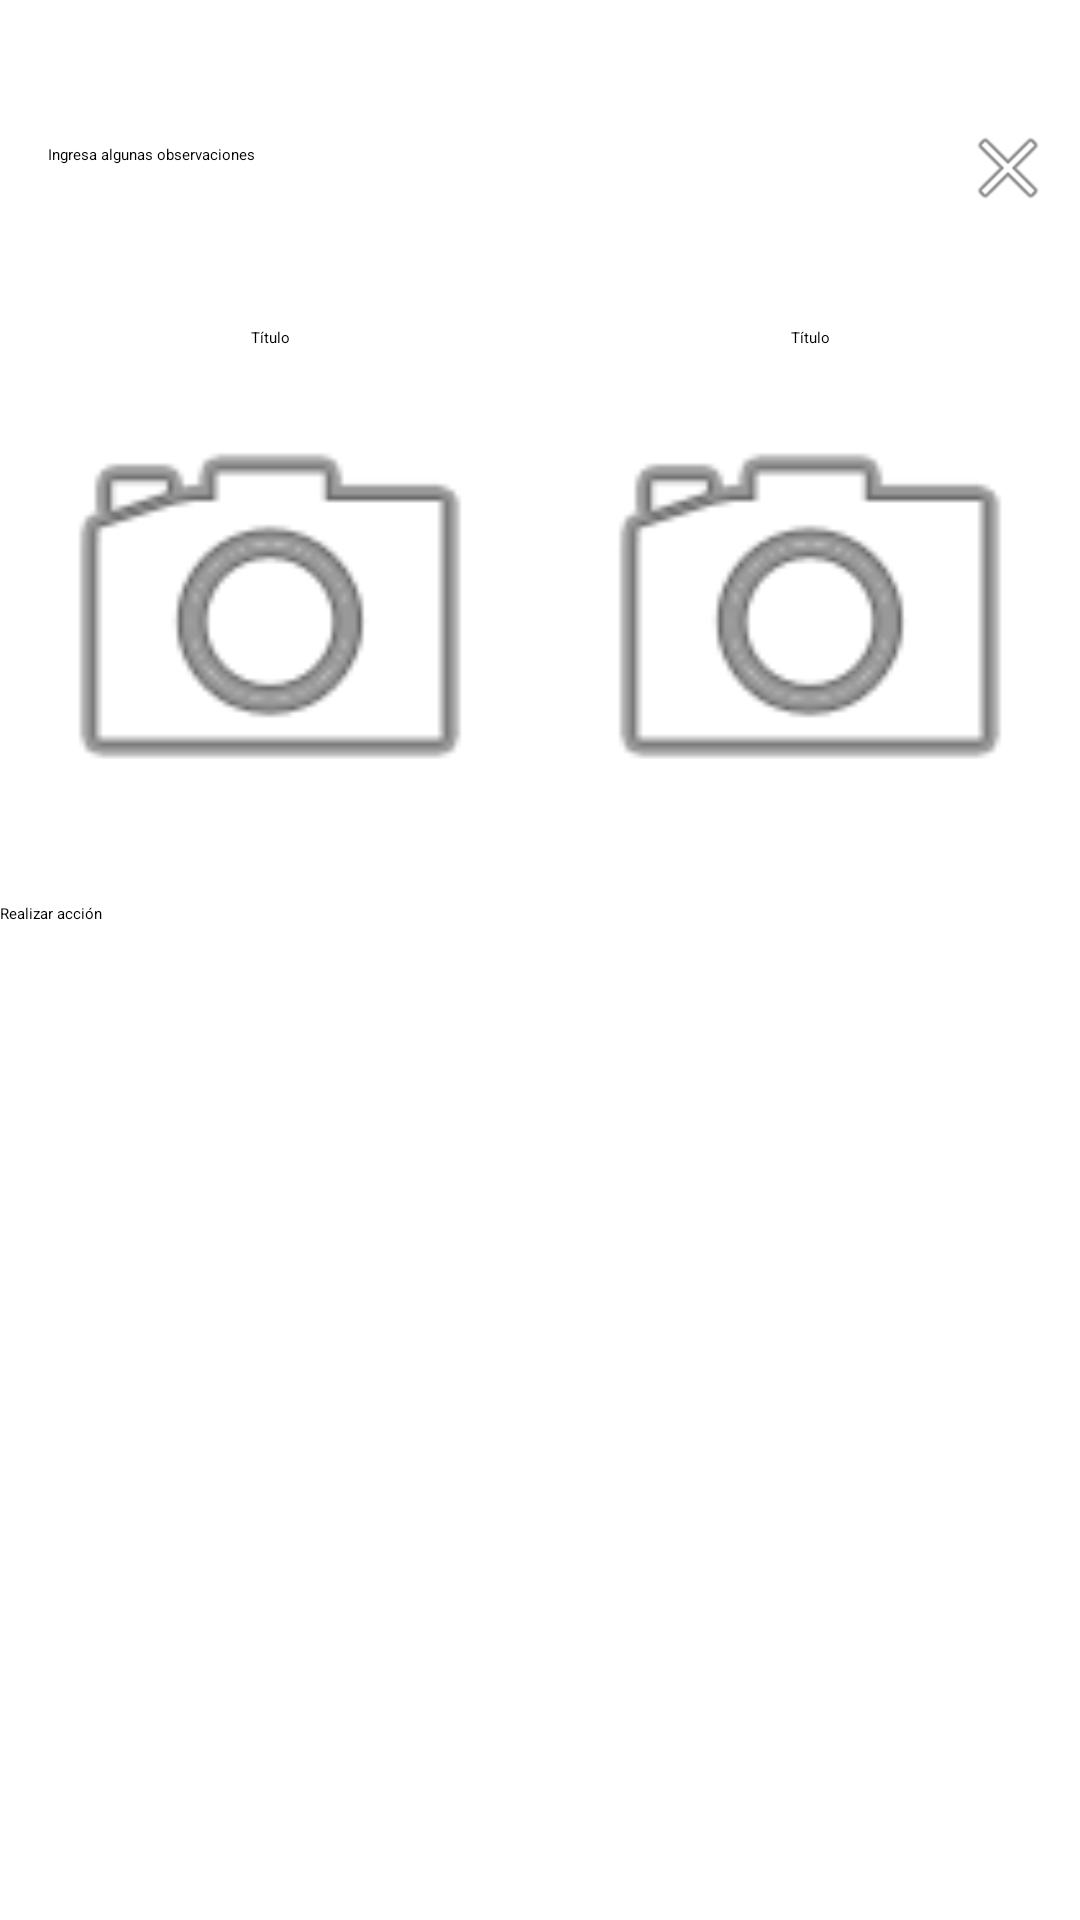

Named icons in this screenshot (1080*1920) and their centers, point (x, y):
close clear cancel: point (1008, 168)
